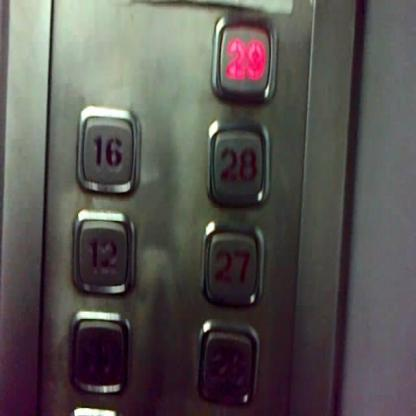12: (68, 205, 137, 299)
16: (72, 103, 142, 198)
27: (199, 218, 266, 310)
28: (205, 116, 272, 208)
29: (209, 9, 278, 105)
blur: (64, 306, 134, 400), (192, 315, 261, 410)
